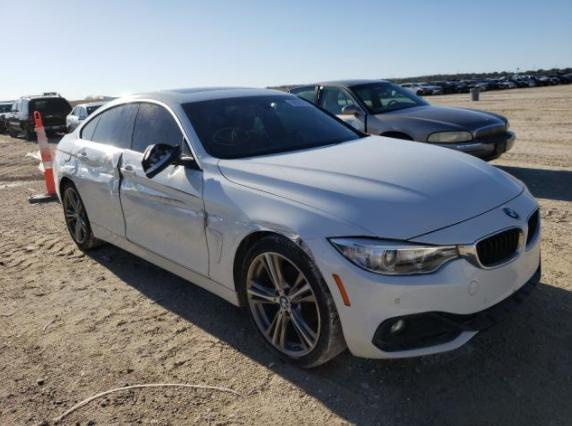Back-door: (71, 99, 141, 239)
Back-wheel: (62, 183, 108, 253)
Back-window: (82, 104, 137, 148)
Fender: (199, 154, 379, 293)
Front-bumper: (294, 186, 542, 360)
Front-door: (118, 99, 210, 280)
Front-wheel: (240, 233, 347, 368)
Front-window: (131, 104, 193, 157)
Grille: (477, 230, 518, 265), (527, 211, 538, 246)
Headlight: (327, 236, 464, 276)
Hood: (217, 134, 526, 240)
Mirror: (141, 142, 194, 180), (341, 117, 360, 130)
Quarter-panel: (52, 134, 79, 204)
Rocker-panel: (89, 222, 241, 307)
Roof: (123, 86, 298, 104)
Windshield: (181, 96, 368, 160)
